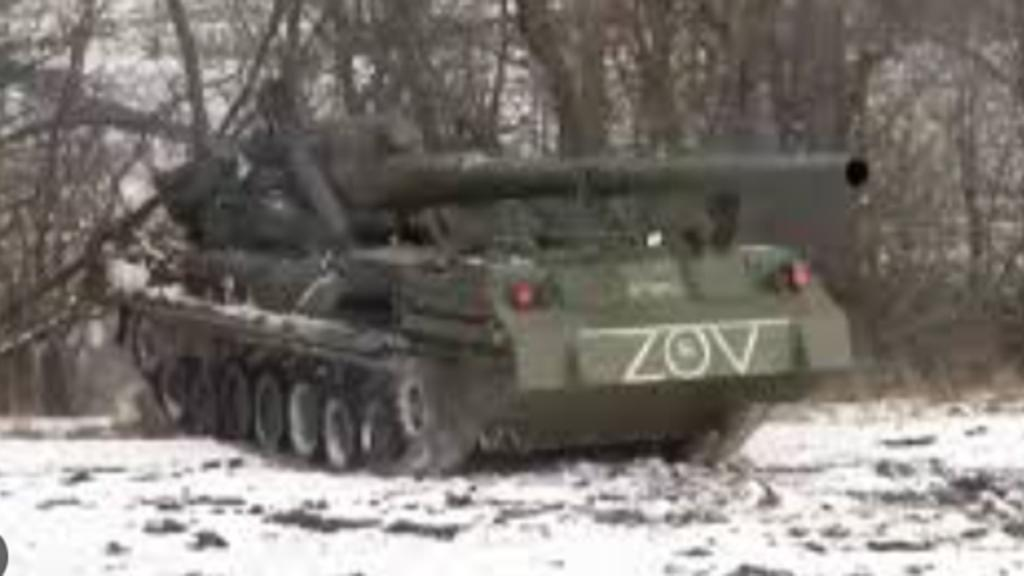ART: (122, 116, 874, 478)
